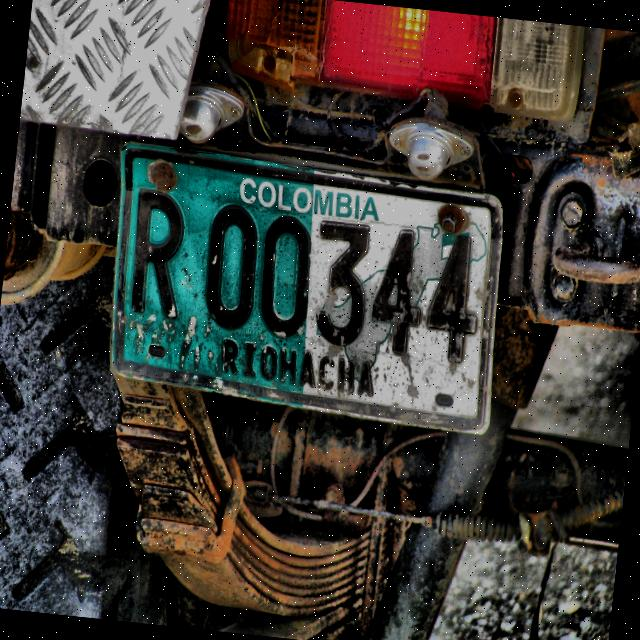plate: (110, 140, 505, 435)
